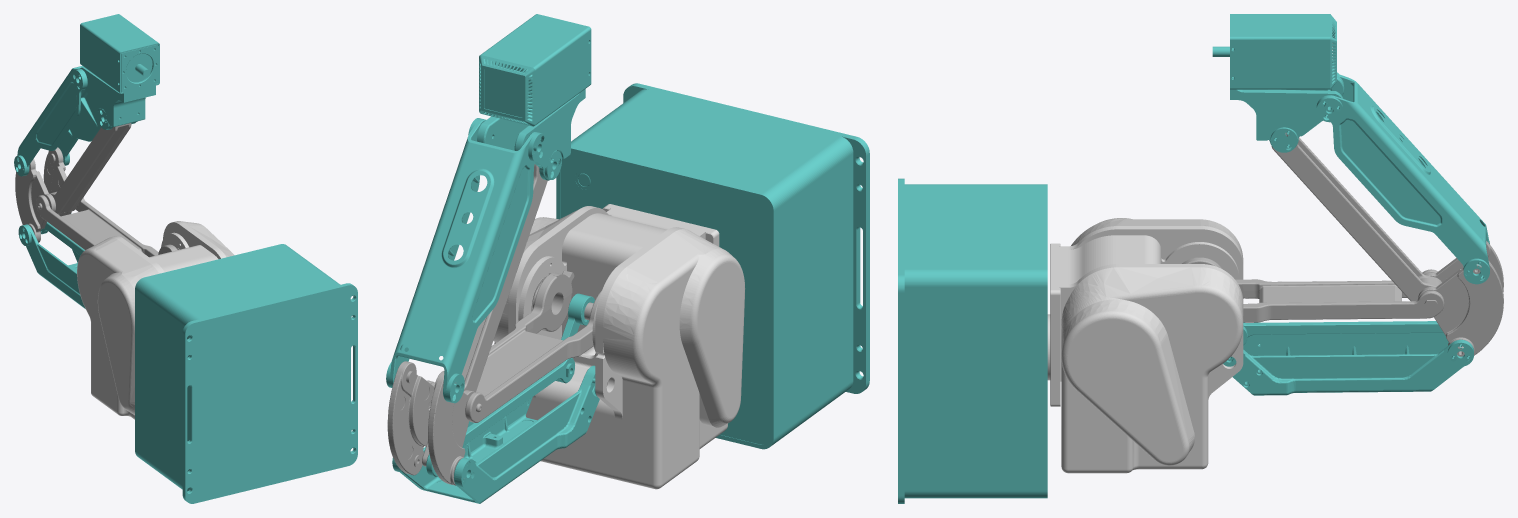
File: dobot_magician.glb
The picture shows the model from 3 angles, left to right: view 1: azimuth 30°, elevation 25°; view 2: azimuth 150°, elevation 25°; view 3: azimuth 270°, elevation 25°; orthographic projection. The views are drawn at different scales.
Visible parts, largest first — view 1: Node2, Node4, Node6, Node1, Node10, Node3, Node7, Node5, Node9; view 2: Node2, Node4, Node7, Node10, Node1, Node6, Node3, Node5, Node8, Node9; view 3: Node2, Node4, Node1, Node6, Node7, Node10, Node3, Node5, Node8, Node9.
Part boxes in pixels (x1,y1,x2,y2): Node2: (18,213,357,503); Node4: (77,221,234,419); Node6: (22,44,158,169); Node1: (15,123,178,249); Node10: (80,14,159,93); Node3: (36,195,179,256); Node7: (14,66,100,176); Node5: (16,66,100,308); Node9: (50,123,130,214); Node2: (392,83,869,503); Node4: (493,206,745,489); Node7: (386,122,546,403); Node10: (479,14,591,126); Node1: (387,165,572,485); Node6: (441,40,590,383); Node3: (427,271,601,422); Node5: (389,118,595,503); Node8: (602,204,719,246); Node9: (422,164,537,457); Node2: (898,178,1473,503); Node4: (1047,218,1243,473); Node1: (1271,133,1503,356); Node6: (1212,46,1441,226); Node7: (1316,73,1489,284); Node10: (1230,14,1336,89); Node3: (1182,257,1444,322); Node5: (1243,72,1489,361); Node8: (1050,242,1083,406); Node9: (1298,137,1440,285).
Bounding box in the file's own units: 190 × 359 × 458.
